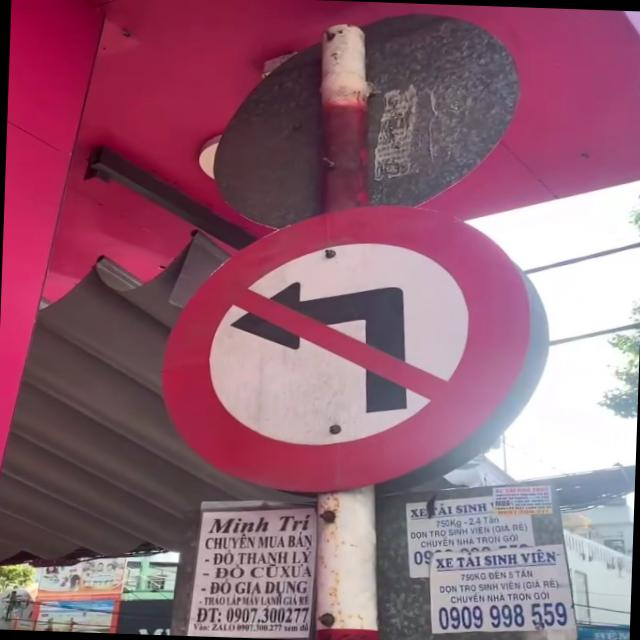Cam_Re_Trai: (154, 194, 553, 500)
